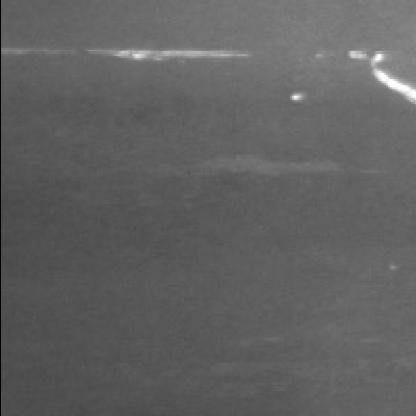scratches: (341, 52, 412, 110), (81, 46, 250, 70)
